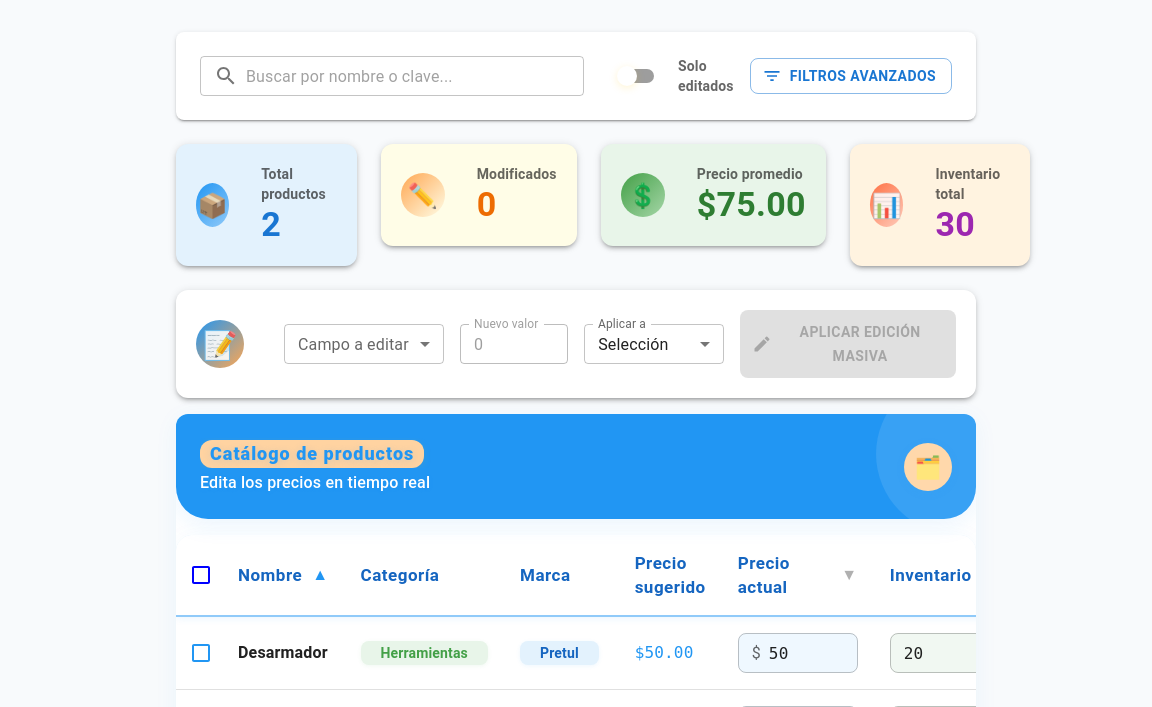
it: EditProducts › filtra productos por nombre
Type "Martillo" into the field with placeholder "Buscar por nombre o clave...".
click(415, 76); type("Martillo")  # box [246,56,584,96]
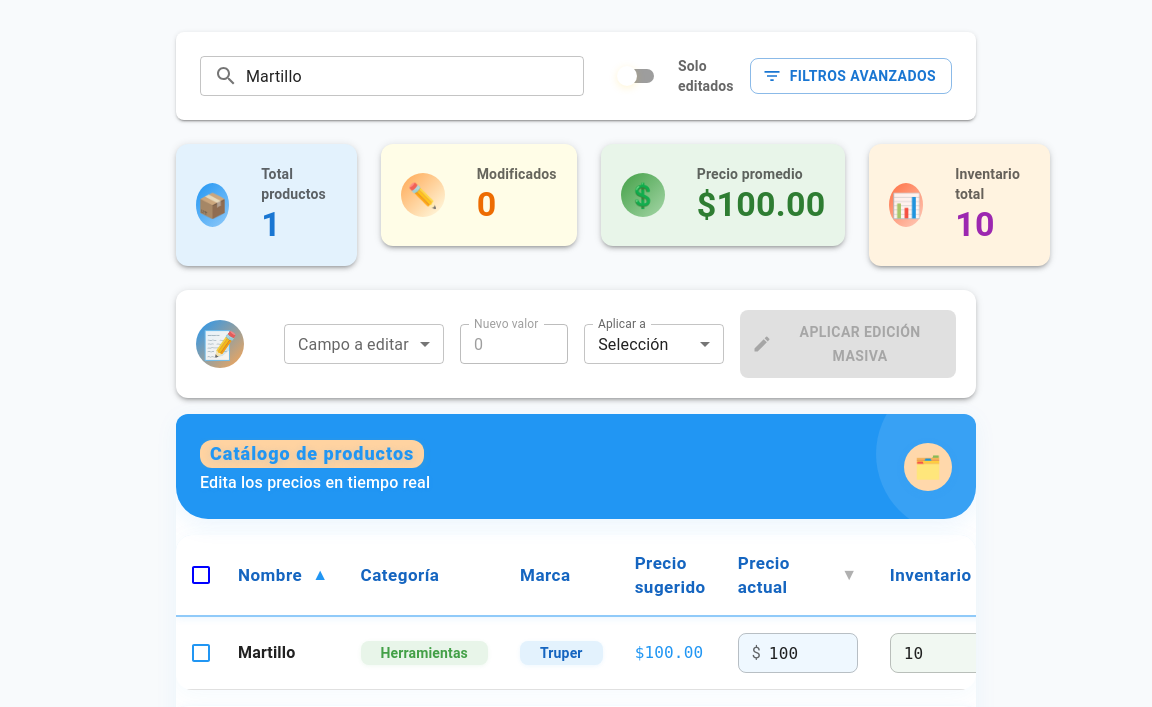
Expected: the column heading "Martillo" is shown, [222,616,344,690]
Expected: the column heading "Desarmador" is gone
